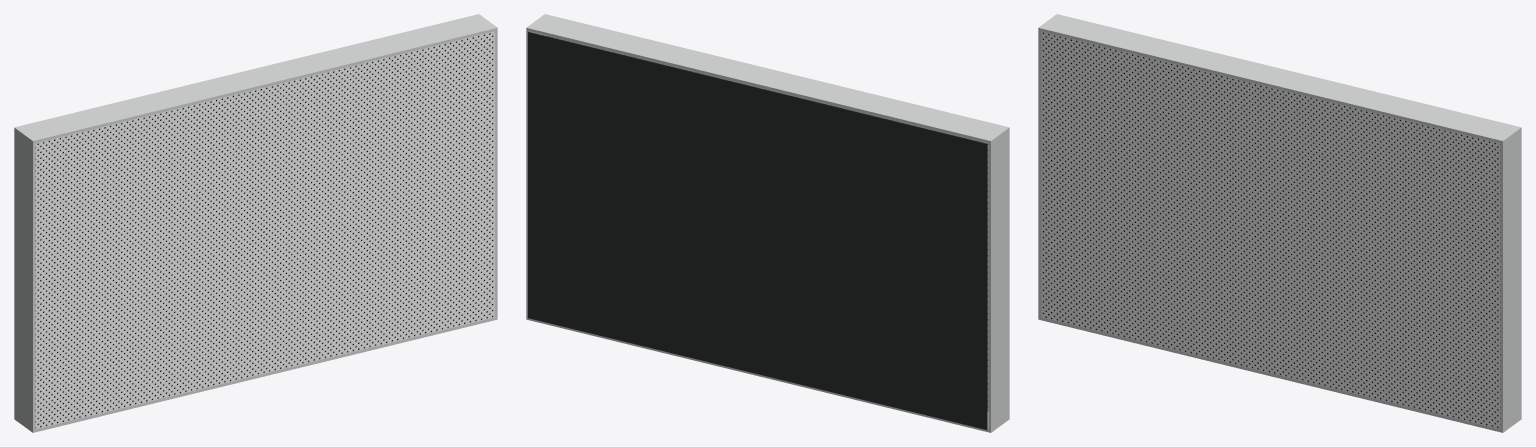
The model's file is ecoclima-egff-500x300.glb.
The picture shows the model from 3 angles, left to right: view 1: azimuth 30°, elevation 25°; view 2: azimuth 150°, elevation 25°; view 3: azimuth 330°, elevation 25°; orthographic projection.
Parts seen in each view (by area): view 1: Profile_lamiera_forata.002, Profile_ritorno.124, Profile_ritorno.126, Profile_ritorno.125, Profile_ritorno.127; view 2: Interno.033, Profile_ritorno.124, Profile_ritorno.126, Profile_ritorno.125, Profile_lamiera_forata.002, Profile_ritorno.127; view 3: Profile_lamiera_forata.002, Profile_ritorno.124, Profile_ritorno.127, Profile_ritorno.125, Profile_ritorno.126.
Boxes of the visible parts, left/top/right/bottom form: Profile_lamiera_forata.002: left=35, top=31, right=494, bottom=429; Profile_ritorno.124: left=14, top=14, right=497, bottom=143; Profile_ritorno.126: left=14, top=130, right=35, bottom=429; Profile_ritorno.125: left=14, top=316, right=497, bottom=432; Profile_ritorno.127: left=495, top=30, right=497, bottom=317; Interno.033: left=528, top=31, right=987, bottom=429; Profile_ritorno.124: left=526, top=14, right=1009, bottom=143; Profile_ritorno.126: left=988, top=130, right=1009, bottom=429; Profile_ritorno.125: left=526, top=316, right=1009, bottom=432; Profile_lamiera_forata.002: left=547, top=36, right=988, bottom=411; Profile_ritorno.127: left=526, top=30, right=546, bottom=316; Profile_lamiera_forata.002: left=1041, top=31, right=1500, bottom=429; Profile_ritorno.124: left=1038, top=14, right=1521, bottom=143; Profile_ritorno.127: left=1500, top=130, right=1521, bottom=429; Profile_ritorno.125: left=1038, top=316, right=1521, bottom=432; Profile_ritorno.126: left=1038, top=30, right=1040, bottom=317.
Bounding box in the file's own units: 0.5 × 0.3 × 0.037.
3 materials, 1 textured.
